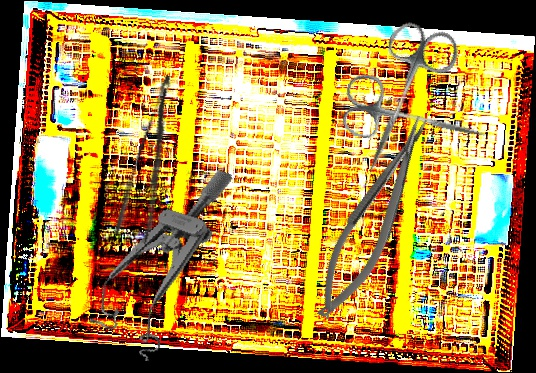Dressing Forceps: (110, 73, 199, 245)
Iris Scissors: (340, 14, 465, 188), (338, 71, 493, 163)
Needle Holder: (299, 109, 451, 328)
Speculum: (83, 146, 233, 368)
